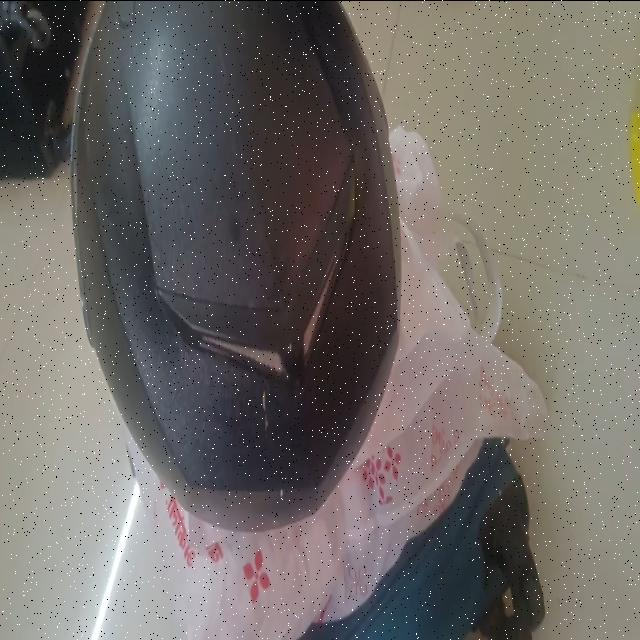Helmet: (71, 2, 400, 531)
